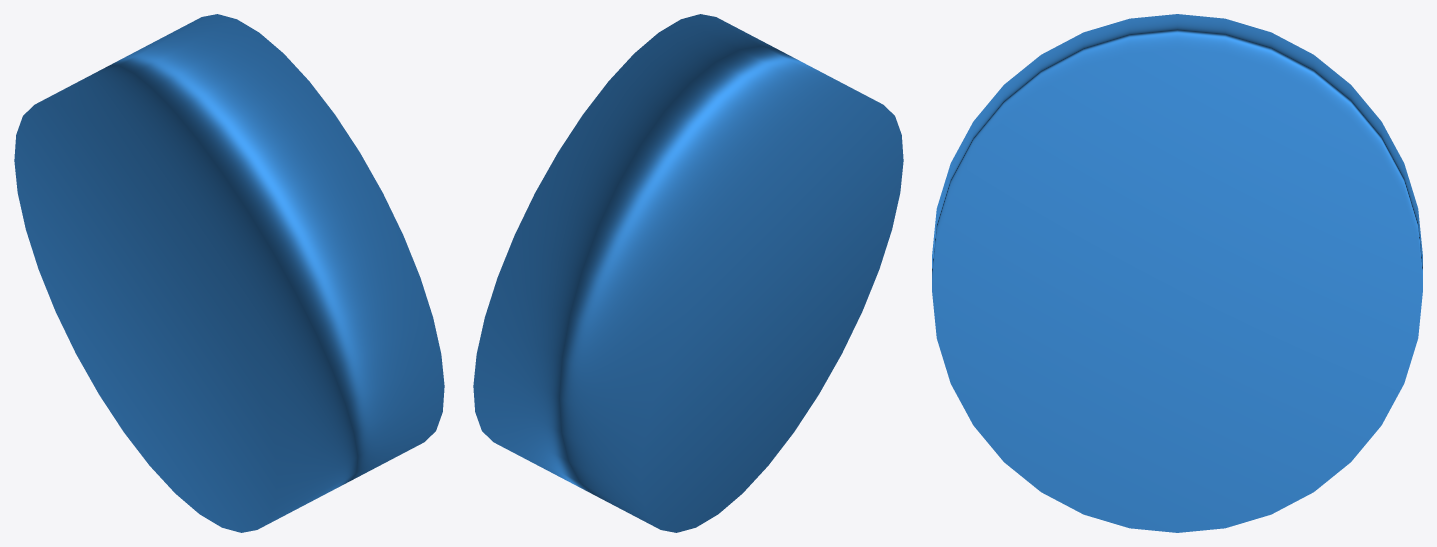
The model's file is GT3_DryBreak_Fuel_Port_L.glb.
3 views of the same model, side by side, from view 1: azimuth 30°, elevation 25°; view 2: azimuth 150°, elevation 25°; view 3: azimuth 270°, elevation 25° (orthographic). The views are drawn at different scales.
Visible parts, largest first — view 1: GT3_DryBreak_Fuel_Port_L; view 2: GT3_DryBreak_Fuel_Port_L; view 3: GT3_DryBreak_Fuel_Port_L.
Part boxes in pixels (x1,y1,x2,y2): GT3_DryBreak_Fuel_Port_L: (14,14,444,532); GT3_DryBreak_Fuel_Port_L: (473,14,903,532); GT3_DryBreak_Fuel_Port_L: (932,14,1422,532).
Size of the model in its own units: 0.0555 by 0.0902 by 0.084.
